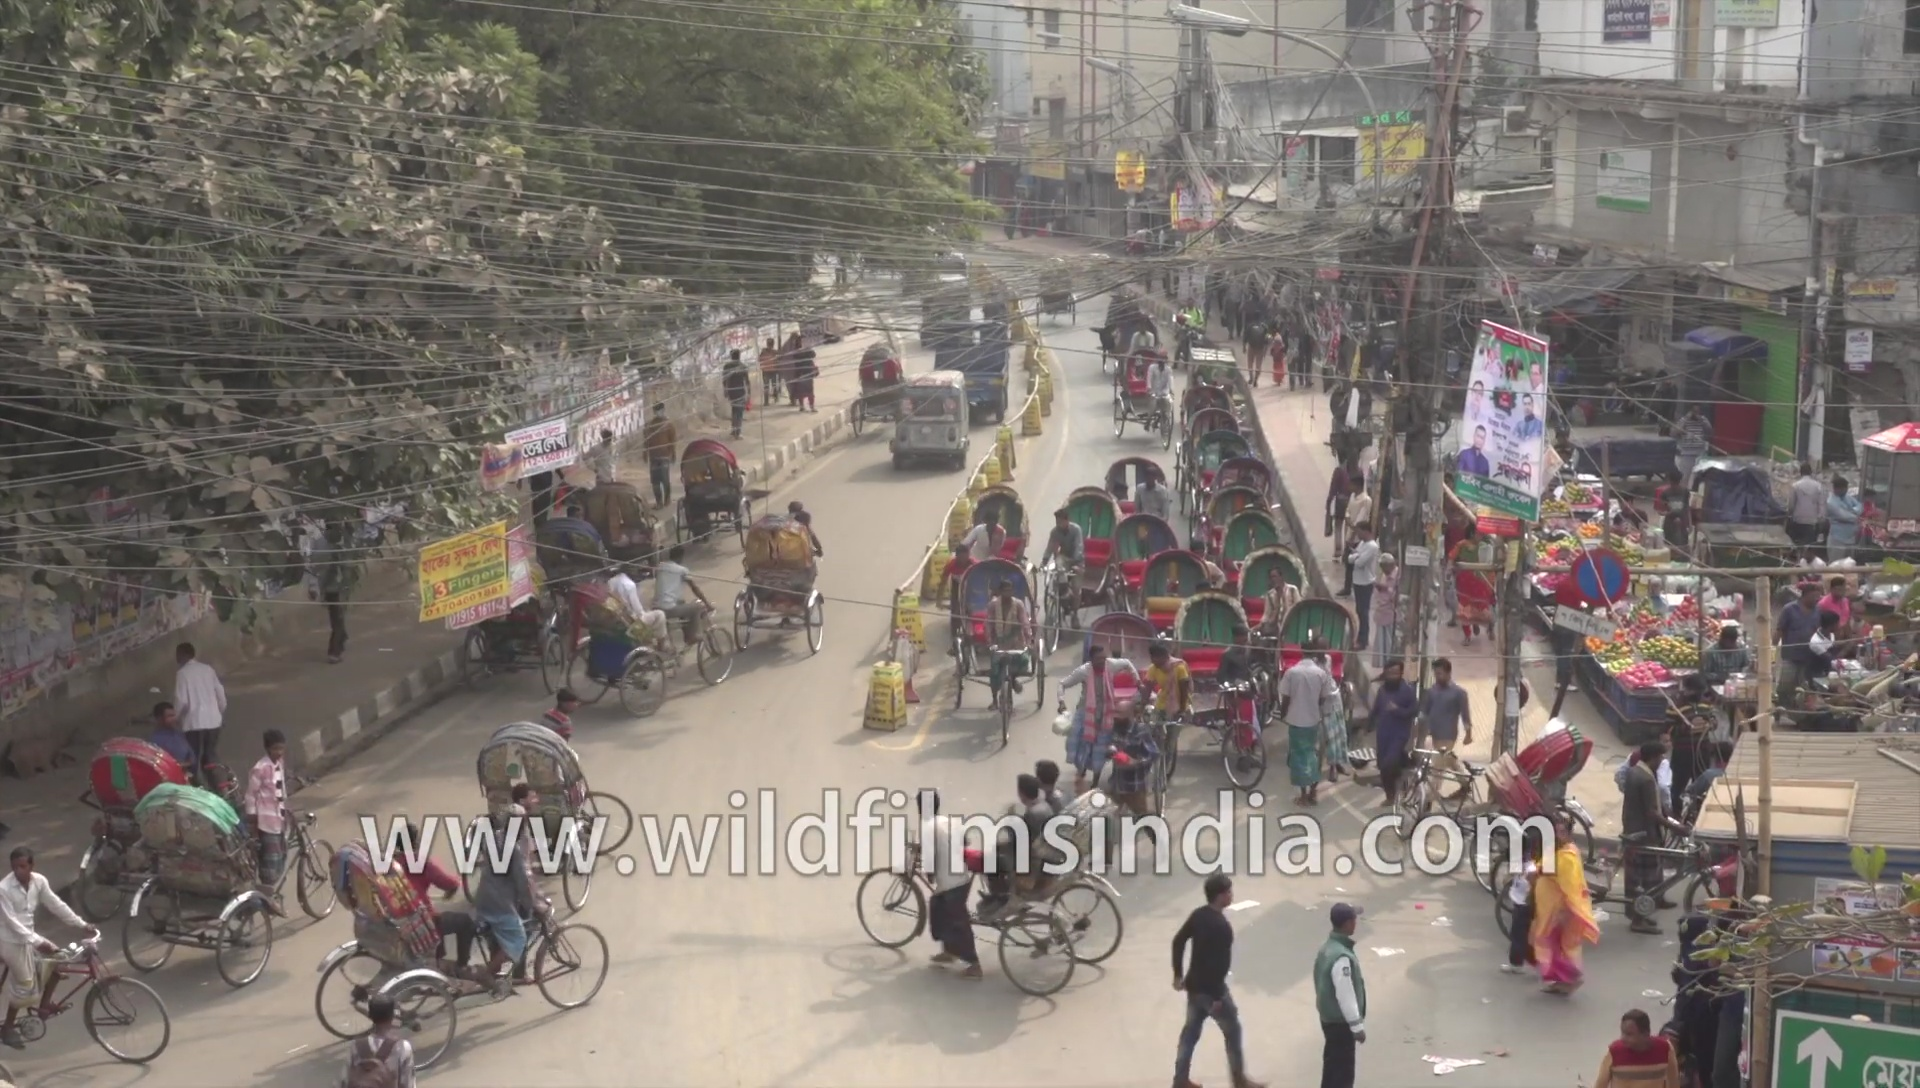5: (311, 816, 615, 1070), (866, 771, 1127, 1000), (125, 785, 345, 982)
bus: (891, 365, 971, 476)
